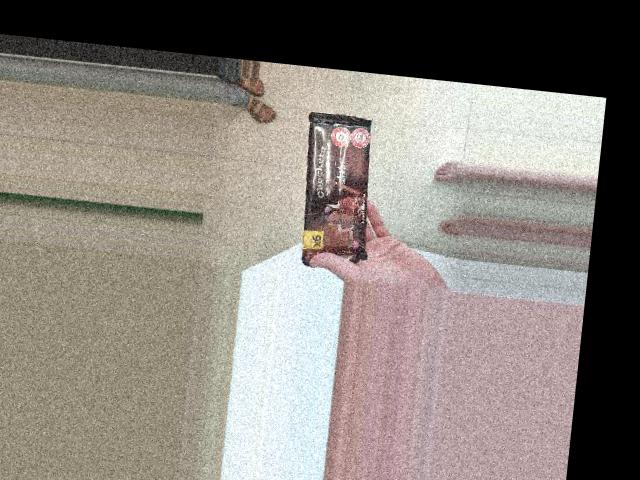chocolate: (232, 97, 398, 196)
